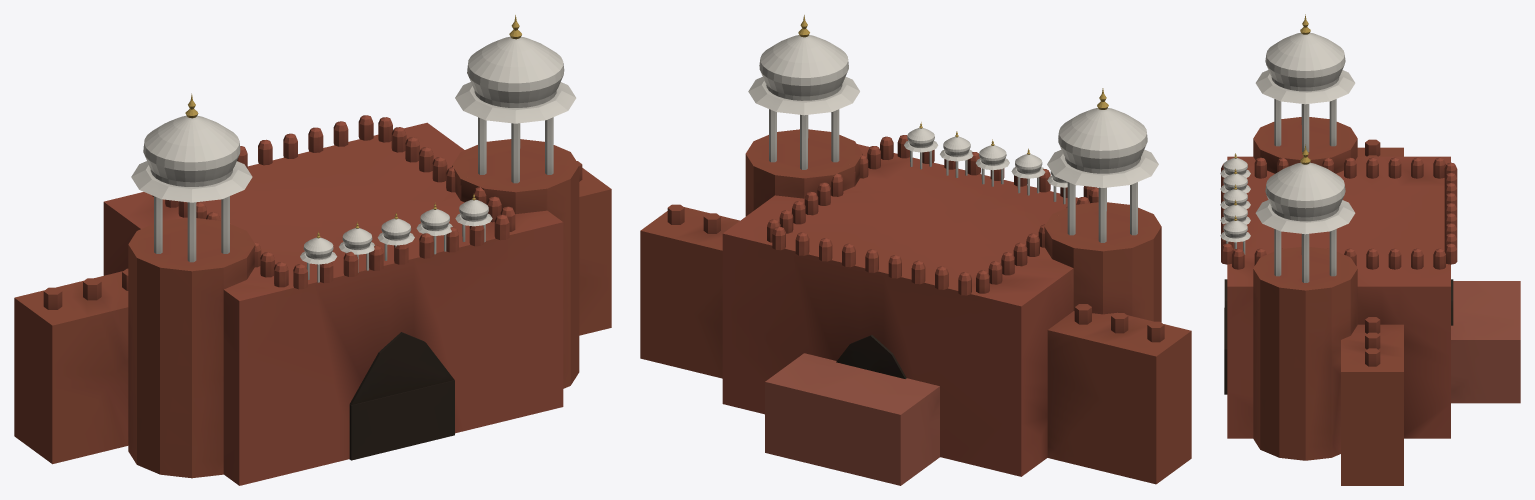
The model's file is ajmeri-gate.glb.
The picture shows the model from 3 angles, left to right: view 1: azimuth 30°, elevation 25°; view 2: azimuth 150°, elevation 25°; view 3: azimuth 270°, elevation 25°; orthographic projection. The views are drawn at different scales.
Parts seen in each view (by area): view 1: p0_gate; view 2: p0_gate, p1_guard; view 3: p0_gate, p1_guard.
Part boxes in pixels (<box>): p0_gate: <box>14,15,611,485</box>; p0_gate: <box>640,15,1191,484</box>; p1_guard: <box>765,353,939,485</box>; p0_gate: <box>1220,14,1457,485</box>; p1_guard: <box>1451,281,1520,403</box>.
Bounding box in the file's own units: 38 × 23.27 × 21.5.
